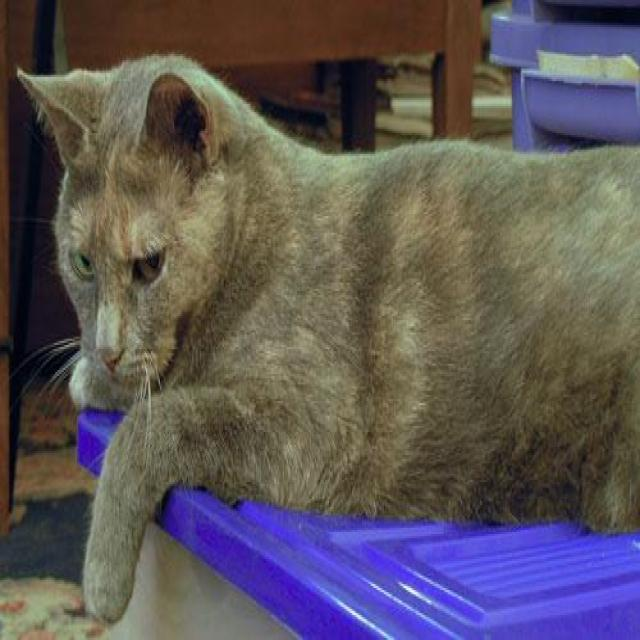Cats: (14, 48, 639, 621)
